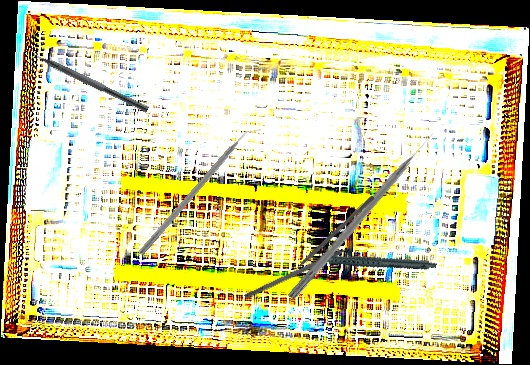Chopper: (138, 121, 263, 262), (22, 41, 154, 113)
Handpiece: (307, 226, 438, 295)
Hook Surgical: (243, 238, 366, 301)
Pusher: (286, 129, 440, 303), (283, 194, 376, 280)
